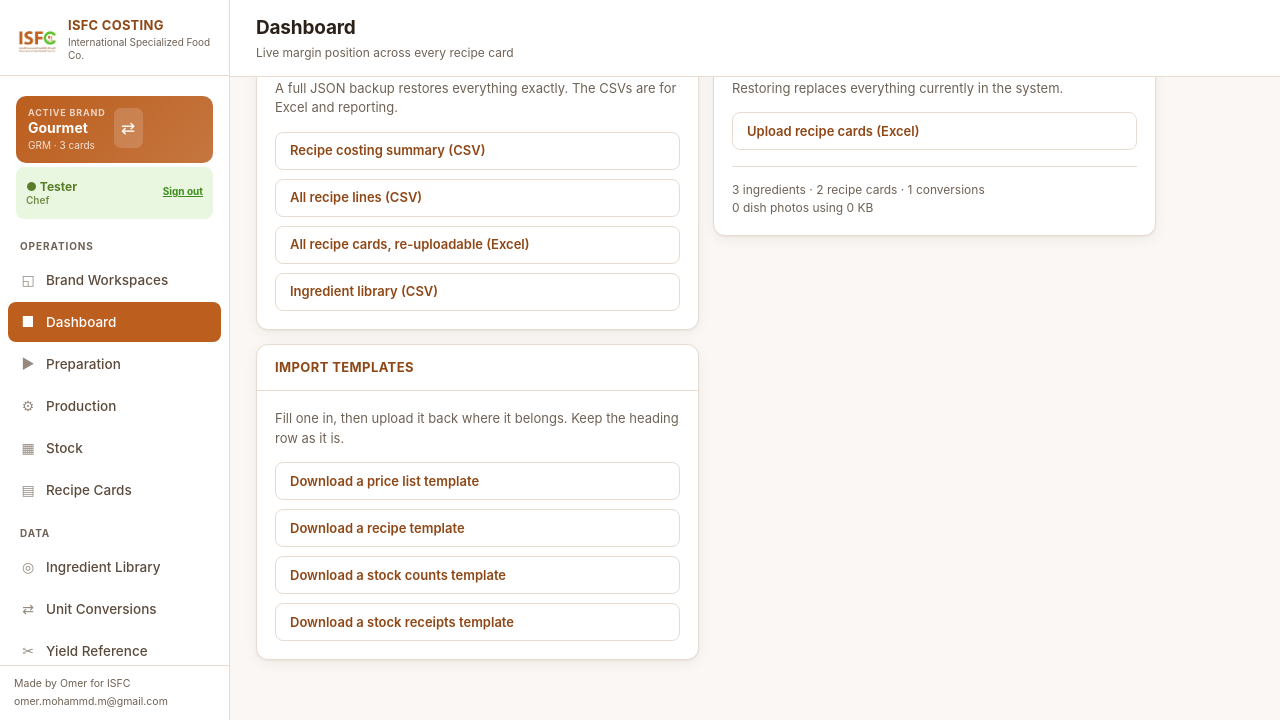
Test case: Backup & Export: Import templates card (D-86) › the receipts template uses its own endpoint, and a failed download says so
(page scrolled)
What coordinates should you click on to do the following:
click the button "Download a stock receipts template"
I would click on:
 (478, 622)
Its box is [275,603,680,641].
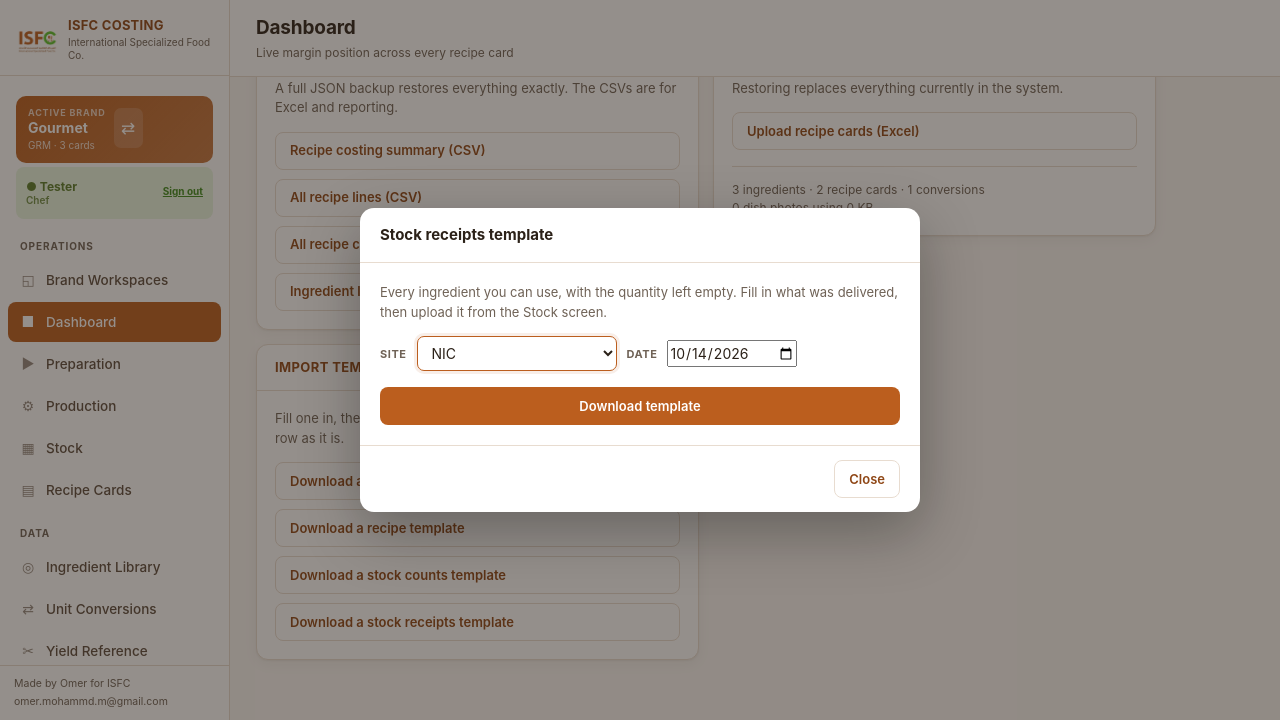
Result: the heading "Stock receipts template" is shown at [360,208,920,263]
What coordinates should you click on to do the following:
click the button "Download template"
I would click on:
 (640, 406)
Its box is [380,387,900,425].
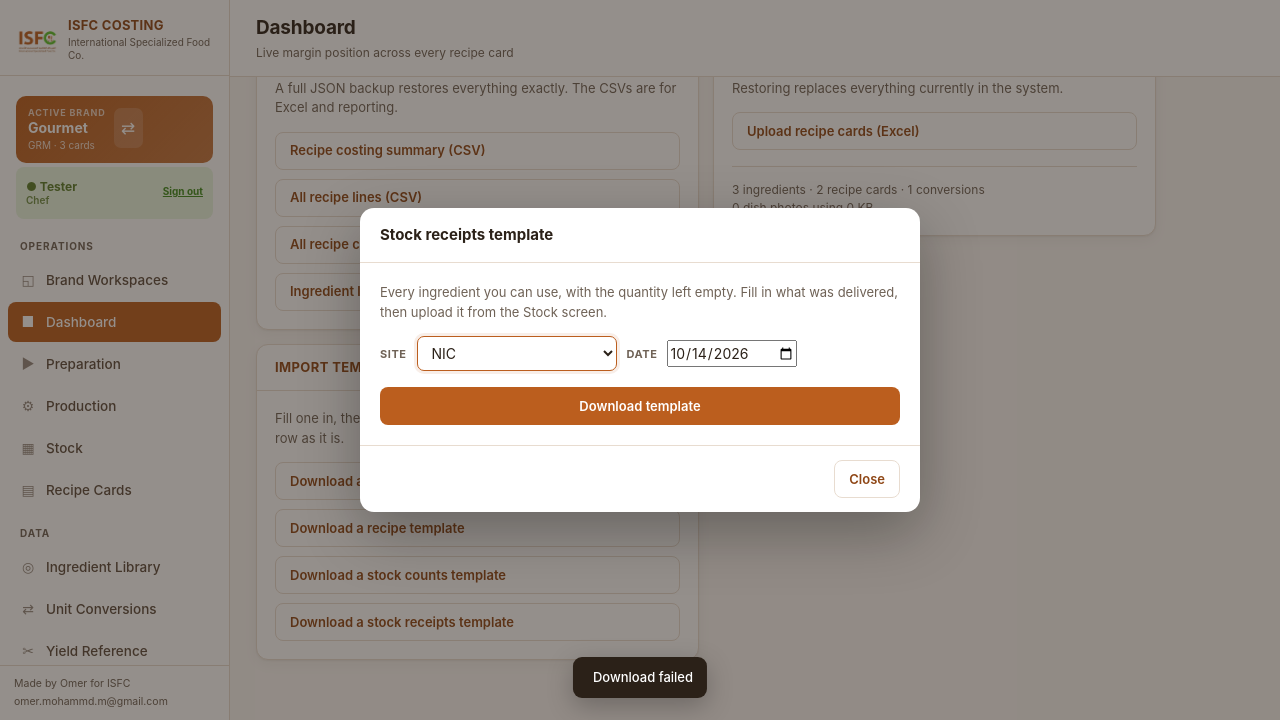
Result: the text "Download failed" is shown at [593,668,693,687]
